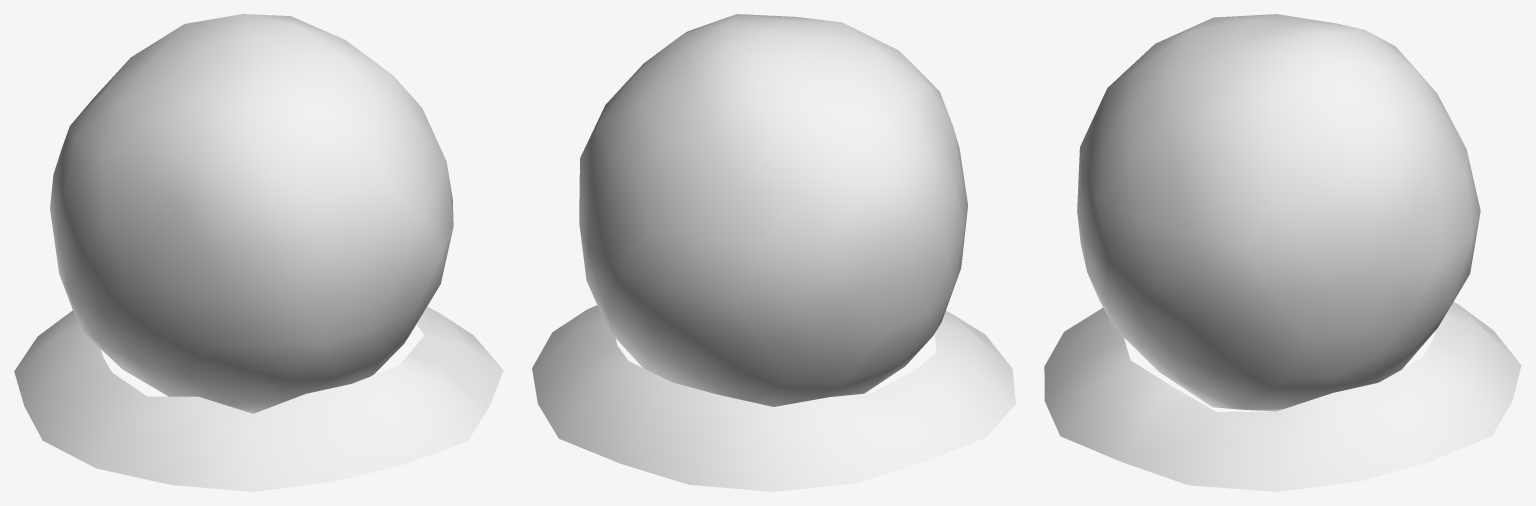
Rendered from SKI_OBS_Snowball-B1s5Wp3b.glb.
The picture shows the model from 3 angles, left to right: view 1: azimuth 30°, elevation 25°; view 2: azimuth 150°, elevation 25°; view 3: azimuth 270°, elevation 25°; orthographic projection.
Visible parts, largest first — view 1: SKI_OBS_Snowball; view 2: SKI_OBS_Snowball; view 3: SKI_OBS_Snowball.
Part boxes in pixels (left/top/right/bottom): SKI_OBS_Snowball: left=14, top=14, right=503, bottom=491; SKI_OBS_Snowball: left=532, top=14, right=1015, bottom=491; SKI_OBS_Snowball: left=1044, top=14, right=1521, bottom=491.
Bounding box in the file's own units: 1.24 × 0.9695 × 1.18.
1 material, 1 textured.
